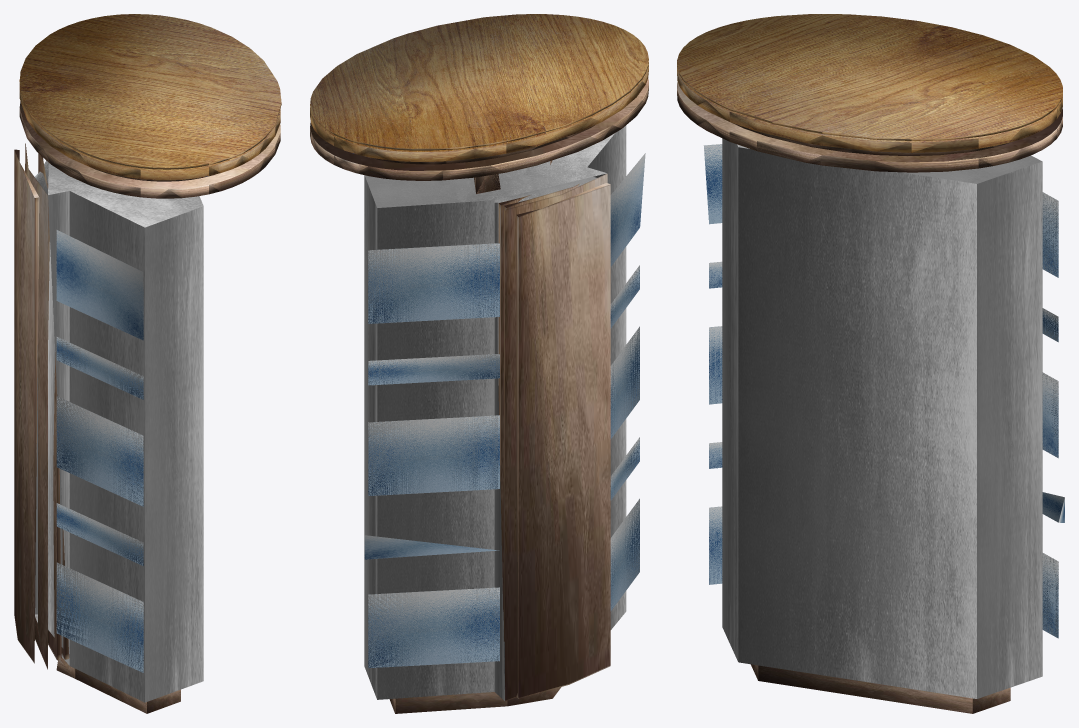
Rendered from adornotv.obj.
3 views of the same model, side by side, from view 1: azimuth 30°, elevation 25°; view 2: azimuth 150°, elevation 25°; view 3: azimuth 270°, elevation 25° (orthographic). The views are drawn at different scales.
Parts seen in each view (by area): view 1: adornotv:Lectern_3_1, adornotv:Lectern_3_6, adornotv:Lectern_3_9, adornotv:Lectern_3_10, adornotv:Lectern_3_12, adornotv:Lectern_3_3, adornotv:Lectern_3_5, adornotv:Lectern_3_2, adornotv:Lectern_3_8; view 2: adornotv:Lectern_3_10, adornotv:Lectern_3_1, adornotv:Lectern_3_9, adornotv:Lectern_3_6, adornotv:Lectern_3_12, adornotv:Lectern_3_3, adornotv:Lectern_3_5, adornotv:Lectern_3_8, adornotv:Lectern_3_11, adornotv:Lectern_3_2, adornotv:Lectern_3_4; view 3: adornotv:Lectern_3_1, adornotv:Lectern_3_6, adornotv:Lectern_3_9, adornotv:Lectern_3_3, adornotv:Lectern_3_5, adornotv:Lectern_3_8, adornotv:Lectern_3_4.
Part boxes in pixels (x1,y1,x2,y2): adornotv:Lectern_3_1: [35, 160, 203, 702]; adornotv:Lectern_3_6: [19, 14, 281, 169]; adornotv:Lectern_3_9: [35, 173, 143, 672]; adornotv:Lectern_3_10: [14, 149, 39, 663]; adornotv:Lectern_3_12: [25, 143, 47, 669]; adornotv:Lectern_3_3: [19, 101, 280, 198]; adornotv:Lectern_3_5: [19, 87, 280, 180]; adornotv:Lectern_3_2: [38, 153, 61, 660]; adornotv:Lectern_3_8: [56, 657, 180, 713]; adornotv:Lectern_3_10: [516, 183, 610, 698]; adornotv:Lectern_3_1: [364, 125, 626, 700]; adornotv:Lectern_3_9: [364, 153, 645, 668]; adornotv:Lectern_3_6: [310, 14, 648, 150]; adornotv:Lectern_3_12: [505, 173, 607, 701]; adornotv:Lectern_3_3: [310, 78, 648, 180]; adornotv:Lectern_3_5: [310, 62, 648, 161]; adornotv:Lectern_3_8: [389, 687, 561, 713]; adornotv:Lectern_3_11: [498, 195, 530, 619]; adornotv:Lectern_3_2: [504, 183, 579, 641]; adornotv:Lectern_3_4: [365, 125, 594, 164]; adornotv:Lectern_3_1: [722, 138, 1042, 698]; adornotv:Lectern_3_6: [677, 14, 1062, 140]; adornotv:Lectern_3_9: [703, 144, 1064, 638]; adornotv:Lectern_3_3: [677, 82, 1062, 172]; adornotv:Lectern_3_5: [677, 64, 1062, 152]; adornotv:Lectern_3_8: [751, 664, 1010, 713]; adornotv:Lectern_3_4: [731, 122, 1009, 156].
Size of the model in its own units: 1.59 by 3.6 by 2.06.
4 materials, 4 textured.
